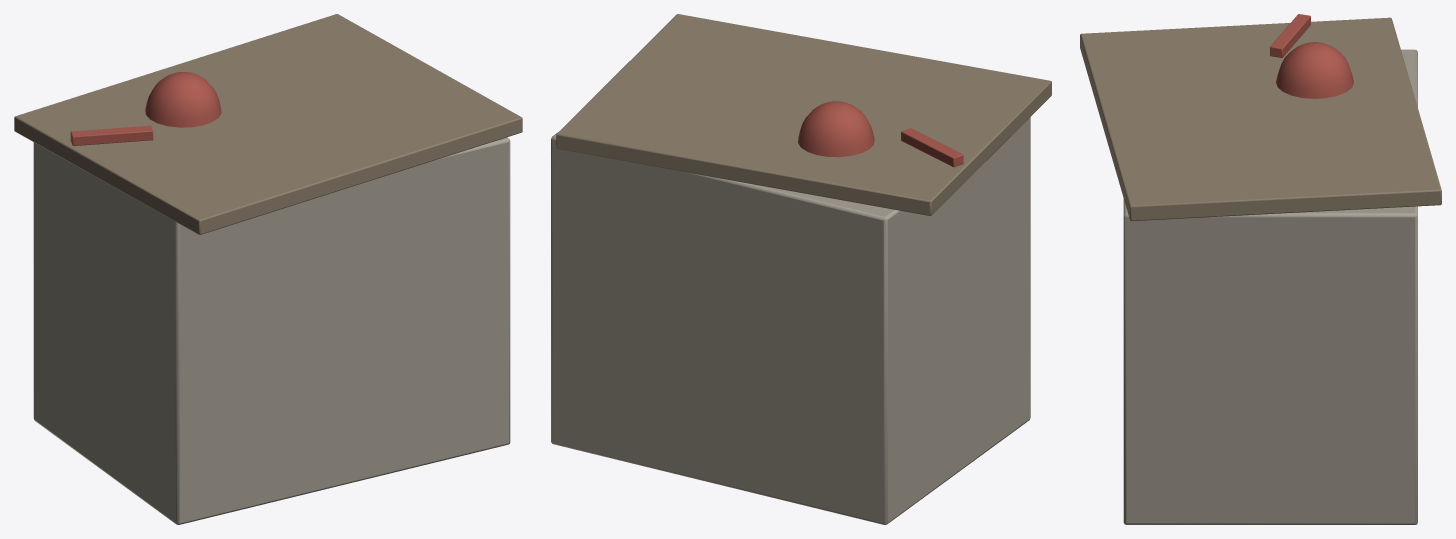
The model's file is BeNuoc_Nap.glb.
The picture shows the model from 3 angles, left to right: view 1: azimuth 30°, elevation 25°; view 2: azimuth 150°, elevation 25°; view 3: azimuth 270°, elevation 25°; orthographic projection.
Visible parts, largest first — view 1: BeNuoc_Nap; view 2: BeNuoc_Nap; view 3: BeNuoc_Nap.
Boxes of the visible parts, bbox=[...] form: BeNuoc_Nap: bbox=[14, 14, 522, 524]; BeNuoc_Nap: bbox=[551, 14, 1051, 524]; BeNuoc_Nap: bbox=[1080, 14, 1441, 524].
Bounding box in the file's own units: 0.9111 × 0.819 × 0.7369.
